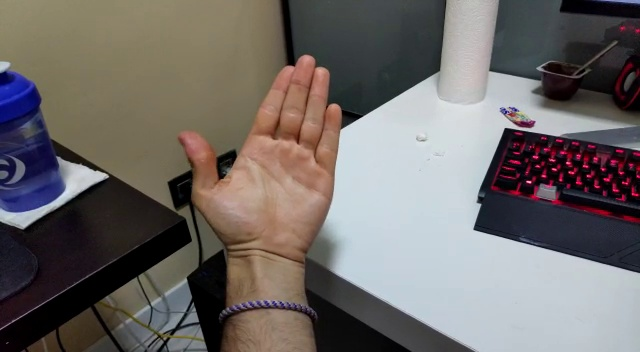Palm: (177, 51, 344, 259)
